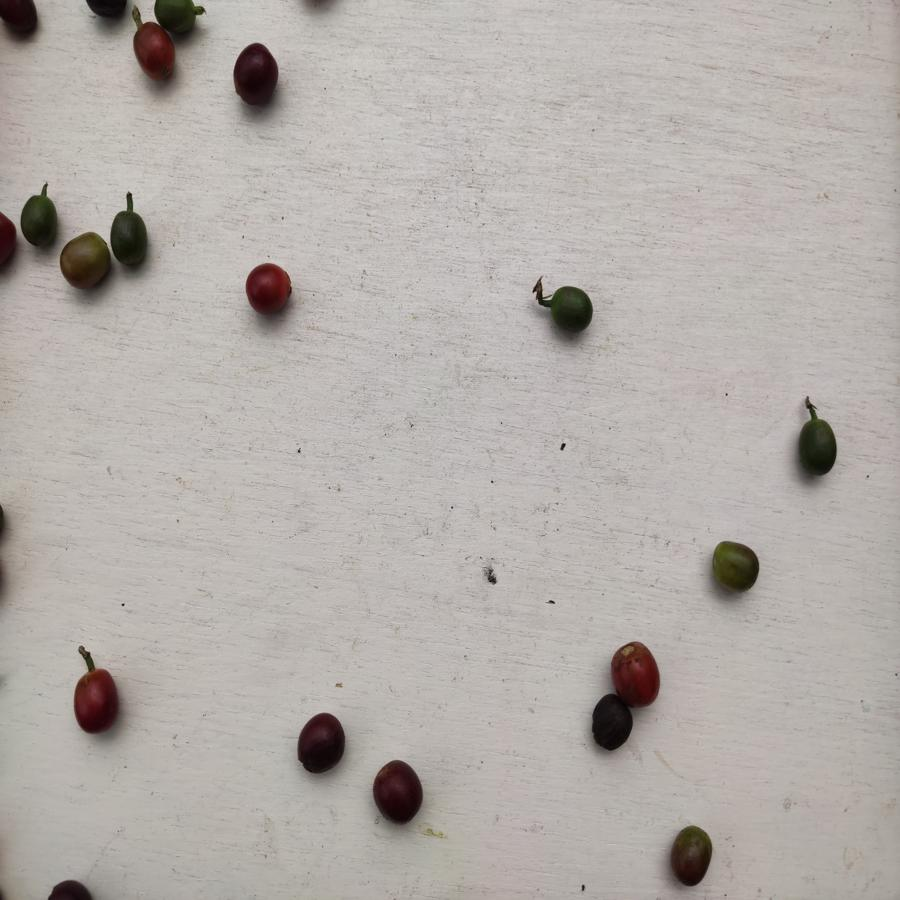Inmaduro: (109, 205, 155, 273), (18, 188, 61, 250), (795, 417, 838, 478), (548, 286, 594, 332), (150, 1, 200, 35)
Maduro: (66, 665, 125, 737), (606, 638, 659, 707), (130, 21, 186, 85), (238, 261, 295, 314)
Pinton: (57, 226, 114, 294), (666, 825, 716, 888), (708, 538, 760, 591)
Sobremaduro: (229, 39, 281, 109), (293, 711, 348, 777), (372, 761, 423, 822), (590, 696, 633, 754)
